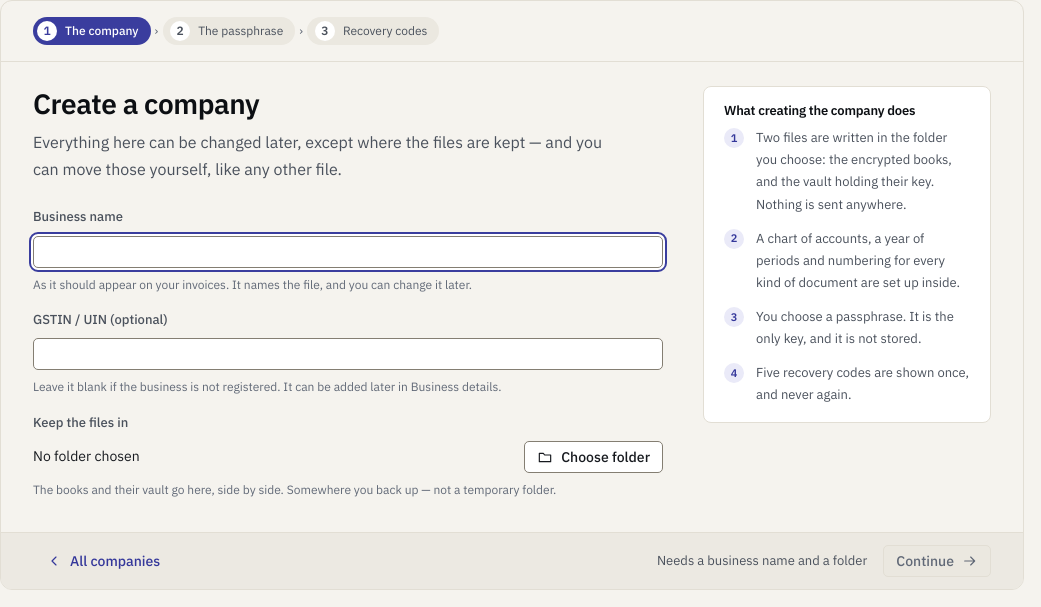
Scenario: the passphrase step › is step two, and Back returns to the company with what was typed
Type "  Sharma Traders  " into the field labelled "Business name" at x=348, y=252, box [33,236,663,268]
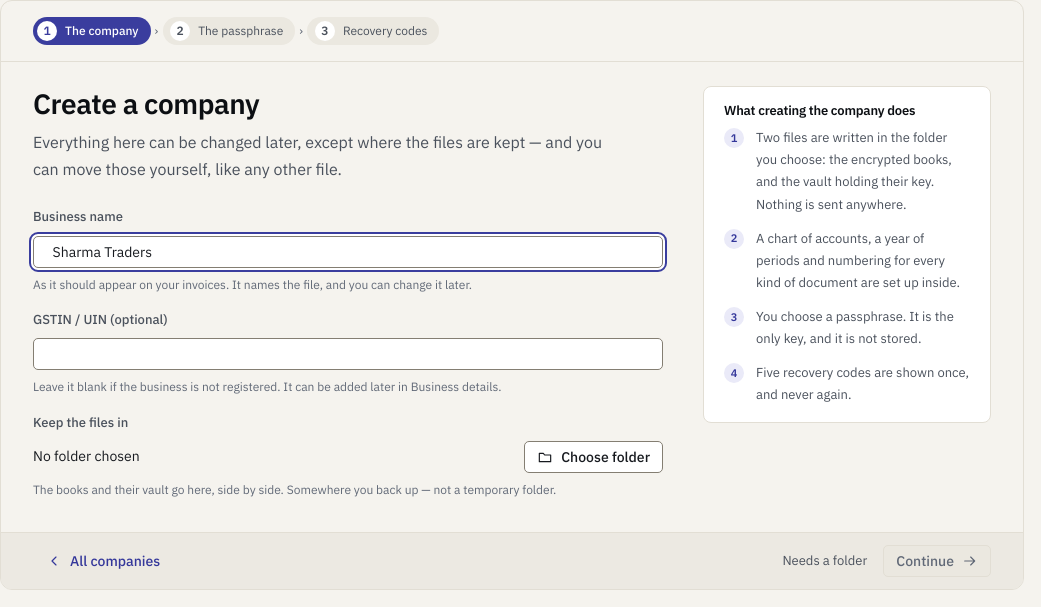
Click the button "Choose folder" at x=594, y=457, box [524,441,663,473]
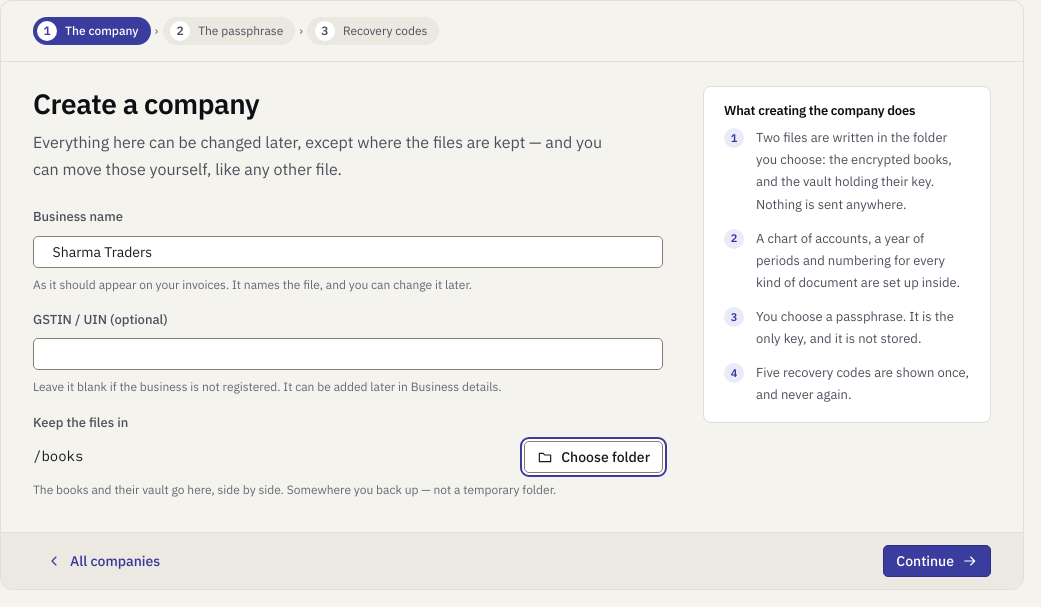
Check: the text "/books" is shown, box [33,447,83,465]
Click the button "Continue" at x=937, y=561, box [883,545,991,577]
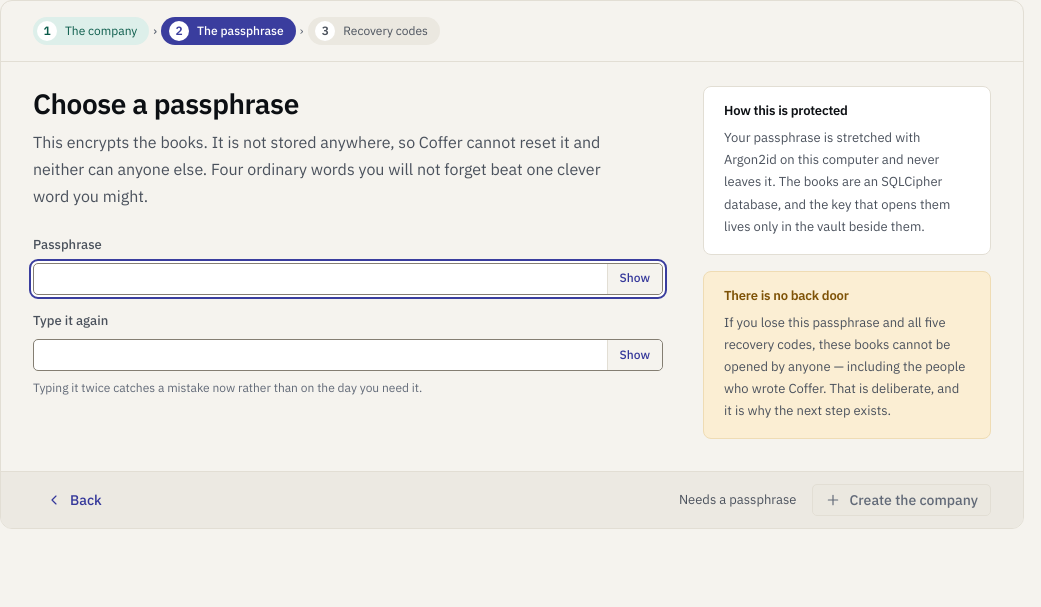
Check: the heading "Choose a passphrase" is shown, box [33,85,299,122]
Click the button "Back" at x=74, y=500, box [33,484,115,516]
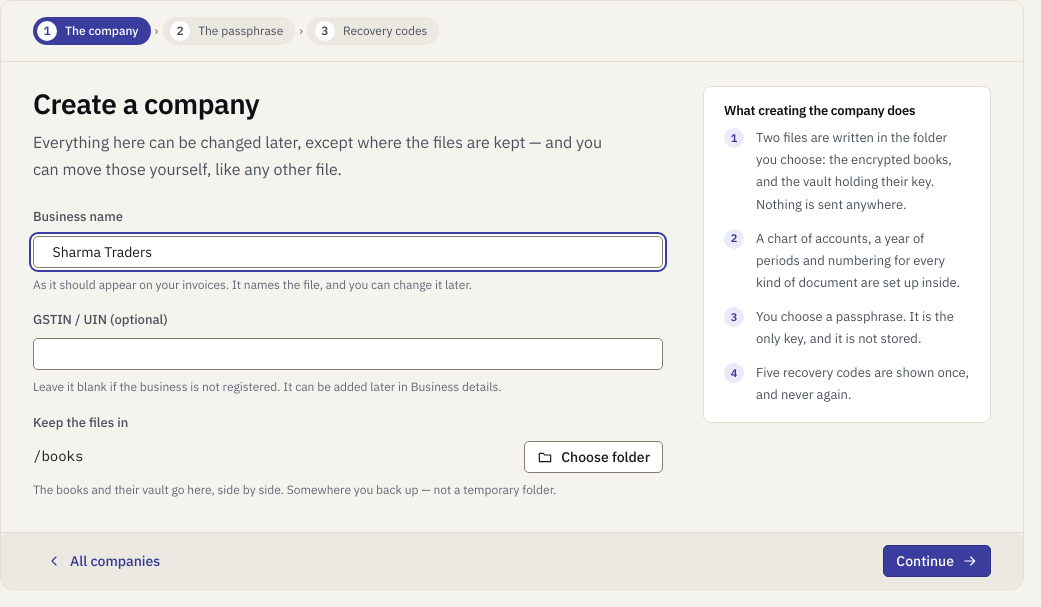
Check: the field labelled "Business name" holds "  Sharma Traders  ", box [33,236,663,268]
